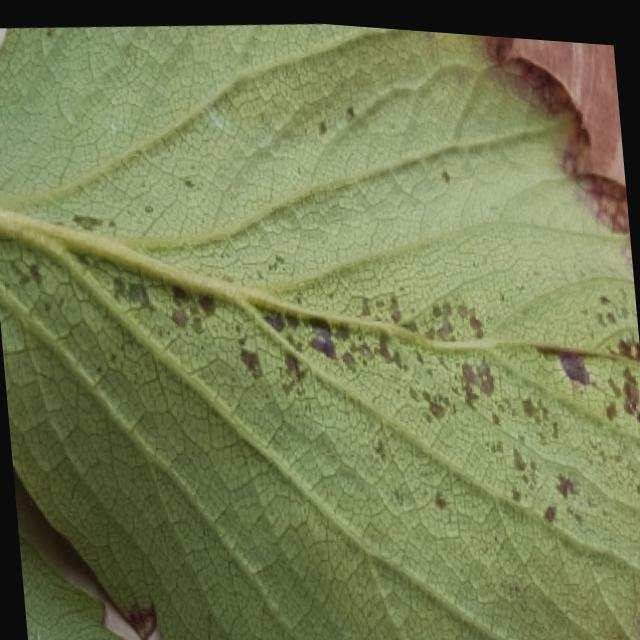Angular Leafspot: (0, 24, 640, 640)
